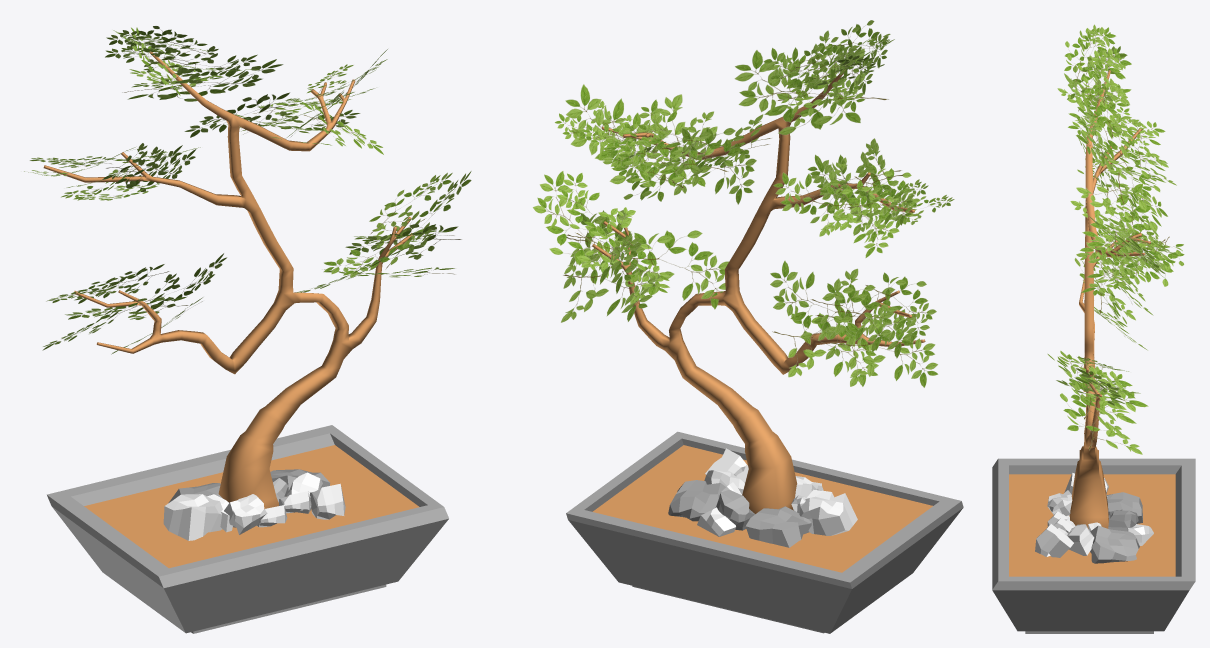
Rendered from bonsai-tree.glb.
3 renders of one model, left to right at view 1: azimuth 30°, elevation 25°; view 2: azimuth 150°, elevation 25°; view 3: azimuth 270°, elevation 25°, orthographic. The views are drawn at different scales.
Parts seen in each view (by area): view 1: Cube_0, Plane_2, Cube.012_56, object 59, object 7, Cube.007_51, Cube.009_53, object 43, object 15, object 6, object 3, object 10 (+4 smaller); view 2: Cube_0, Plane_2, object 59, object 58, object 34, object 10, object 15, Cube.012_56, object 60, Cube.001_45, object 3, object 9 (+32 smaller); view 3: Cube_0, Plane_2, Cube.005_49, object 57, object 19, object 41, object 59, object 43, Cube.009_53, object 31, object 44, object 42 (+27 smaller).
Boxes of the visible parts, x1=… form: Cube_0: x1=47, y1=425, x2=448, y2=633; Plane_2: x1=43, y1=51, x2=413, y2=508; Cube.012_56: x1=163, y1=494, x2=222, y2=540; object 59: x1=122, y1=59, x2=283, y2=101; object 7: x1=324, y1=218, x2=425, y2=277; Cube.007_51: x1=224, y1=494, x2=267, y2=534; Cube.009_53: x1=310, y1=483, x2=345, y2=519; object 43: x1=345, y1=224, x2=461, y2=259; object 15: x1=184, y1=92, x2=296, y2=137; object 6: x1=369, y1=172, x2=452, y2=234; object 3: x1=385, y1=171, x2=471, y2=269; object 10: x1=132, y1=253, x2=227, y2=314; Cube_0: x1=566, y1=431, x2=963, y2=633; Plane_2: x1=592, y1=69, x2=925, y2=513; object 59: x1=734, y1=48, x2=888, y2=134; object 58: x1=565, y1=84, x2=709, y2=184; object 34: x1=613, y1=230, x2=728, y2=309; object 10: x1=770, y1=260, x2=873, y2=339; object 15: x1=664, y1=127, x2=756, y2=204; Cube.012_56: x1=799, y1=489, x2=857, y2=535; object 60: x1=830, y1=317, x2=938, y2=387; Cube.001_45: x1=745, y1=506, x2=811, y2=547; object 3: x1=532, y1=171, x2=631, y2=278; object 9: x1=811, y1=283, x2=893, y2=350; Cube_0: x1=992, y1=458, x2=1195, y2=633; Plane_2: x1=1069, y1=70, x2=1150, y2=528; Cube.005_49: x1=1090, y1=525, x2=1139, y2=563; object 57: x1=1059, y1=386, x2=1148, y2=454; object 19: x1=1076, y1=171, x2=1157, y2=255; object 41: x1=1076, y1=231, x2=1146, y2=295; object 59: x1=1064, y1=73, x2=1127, y2=169; object 43: x1=1070, y1=365, x2=1135, y2=436; Cube.009_53: x1=1035, y1=524, x2=1073, y2=557; object 31: x1=1057, y1=83, x2=1115, y2=136; object 44: x1=1066, y1=366, x2=1132, y2=421; object 42: x1=1107, y1=221, x2=1177, y2=286.
Size of the model in its own units: 0.9401 by 1.19 by 0.4222.
Materials: 4 (1 with a texture image).
